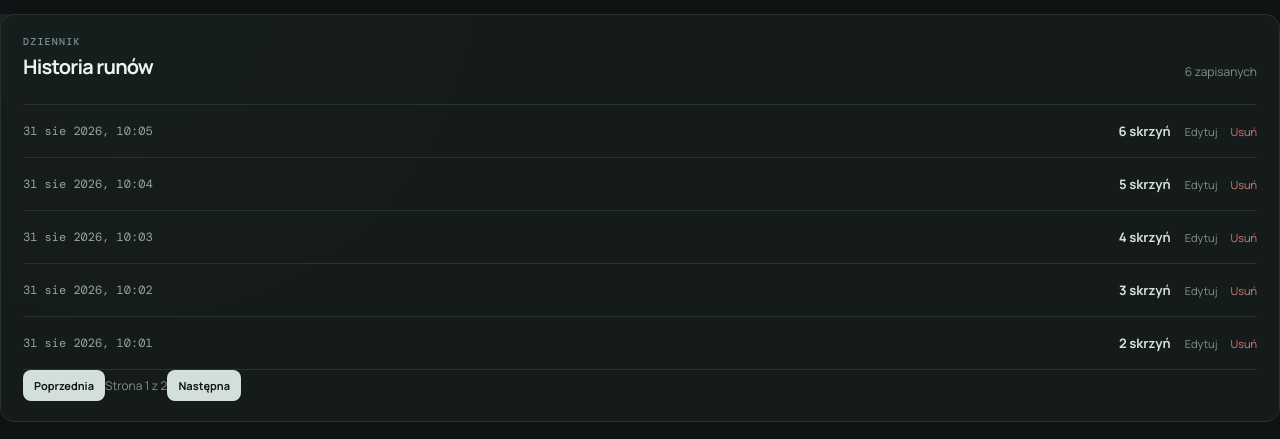
Test case: RunHistory › shows five runs per page
Expected: the number of buttons named "Edytuj run" is 5, 1185,116 -> 1217,146; 1185,168 -> 1217,200; 1185,222 -> 1217,252; 1185,274 -> 1217,306; 1185,328 -> 1217,358
Click the button "Następna" at x=204, y=386, box 167,370 -> 241,401
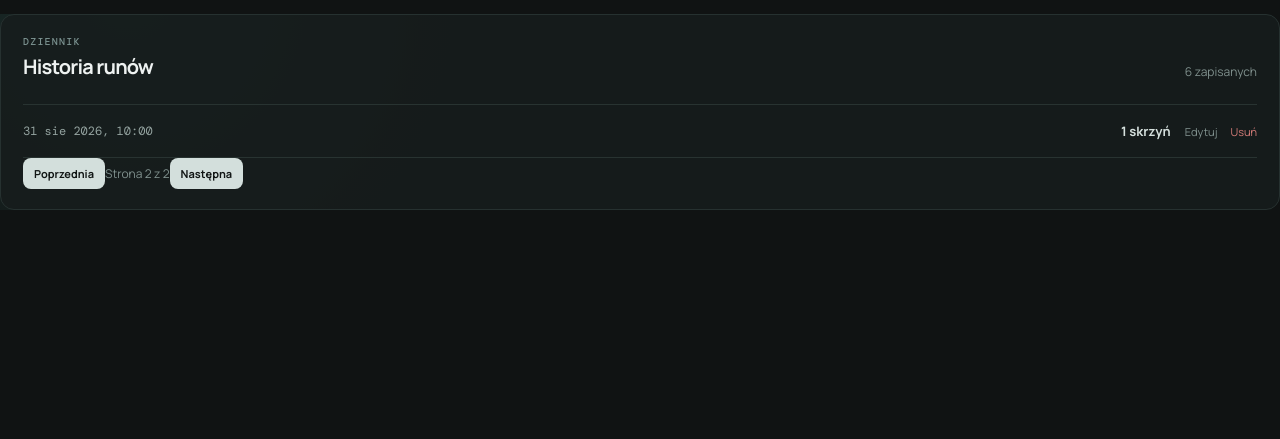
Now the text "1 skrzyń" is shown, box 1121,122 -> 1171,140
